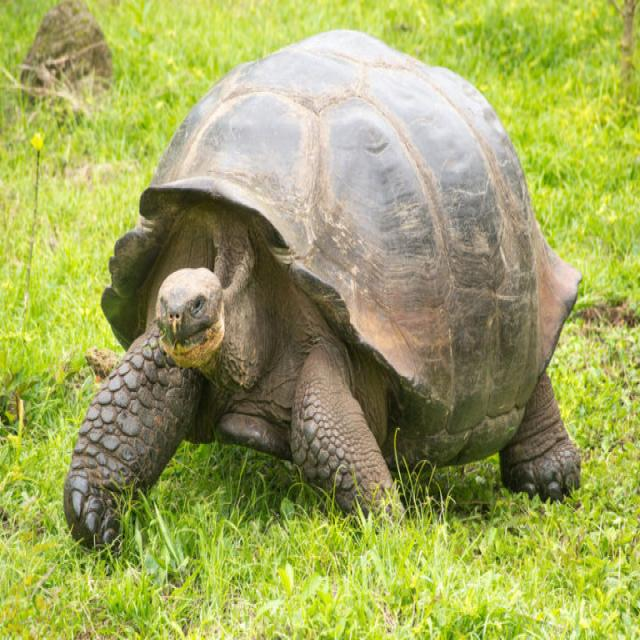tortoise: (92, 7, 590, 485), (52, 312, 210, 560), (291, 332, 415, 538), (489, 356, 592, 516), (148, 263, 224, 371)
